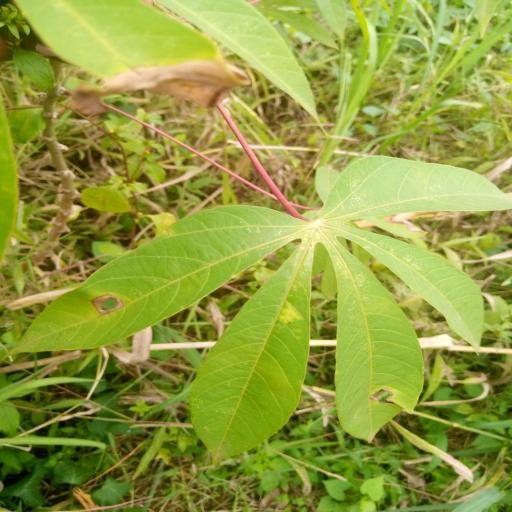Cassava_Mosaic: (4, 154, 502, 466)
